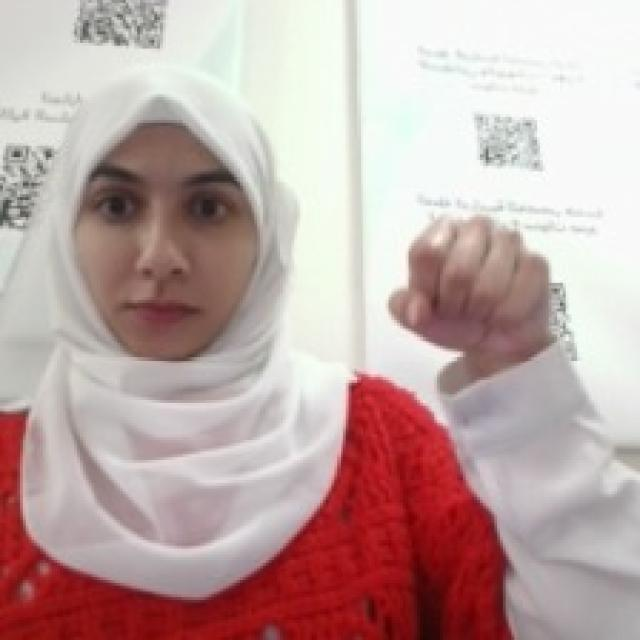yes: (383, 203, 560, 354)
